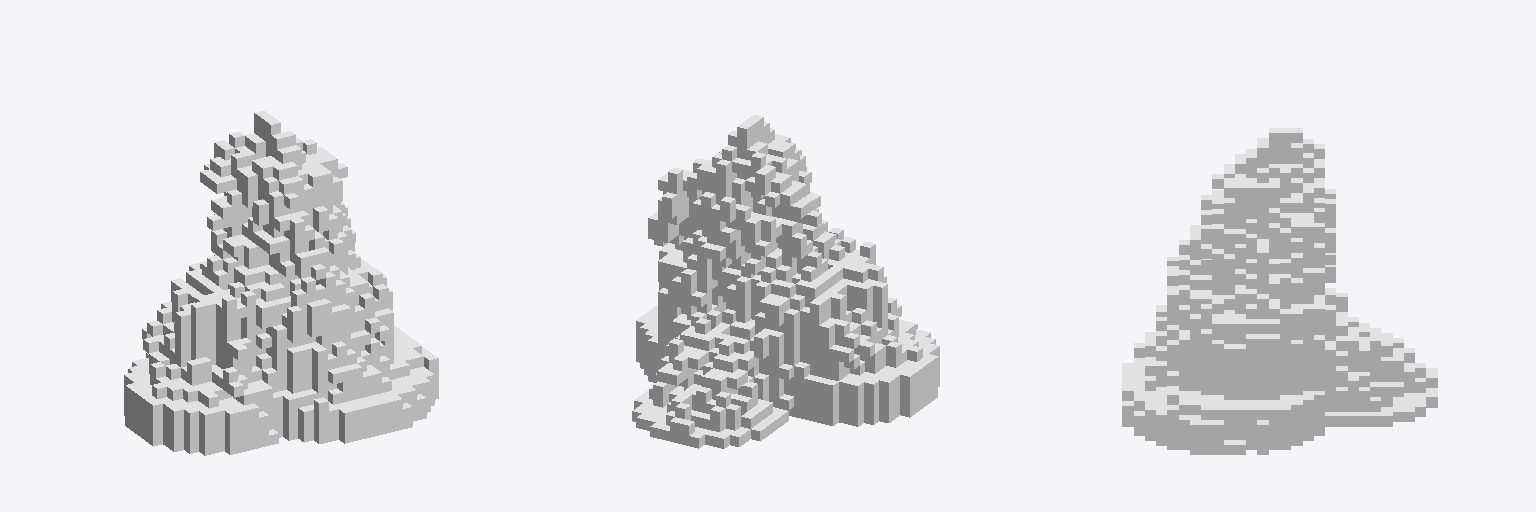
Rendered from Skała.obj.
3 views of the same model, side by side, from view 1: azimuth 30°, elevation 25°; view 2: azimuth 150°, elevation 25°; view 3: azimuth 270°, elevation 25° (orthographic).
Visible parts, largest first — view 1: Skała; view 2: Skała; view 3: Skała.
Part boxes in pixels (x1,y1,x2,y2): Skała: (124,111,438,455); Skała: (632,115,939,448); Skała: (1122,128,1437,454).
Bounding box in the file's own units: 28 × 26 × 28.